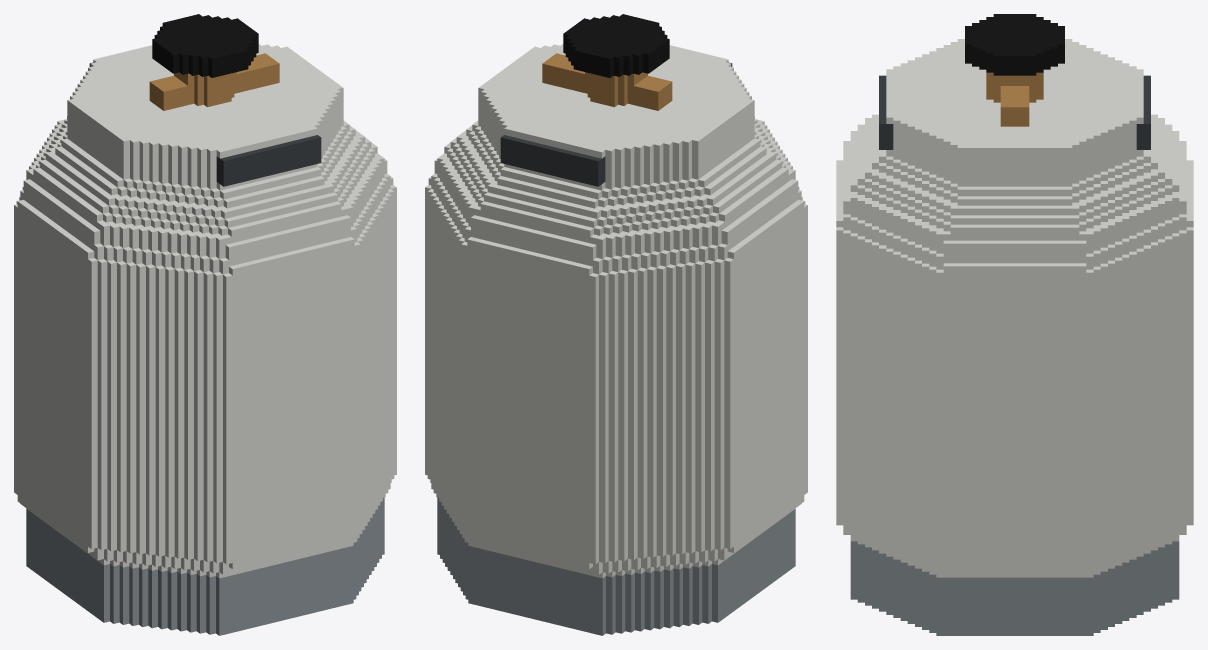
The model's file is medium_propane_tank.glb.
3 renders of one model, left to right at view 1: azimuth 30°, elevation 25°; view 2: azimuth 150°, elevation 25°; view 3: azimuth 270°, elevation 25°, orthographic.
Visible parts, largest first — view 1: medium_propane_tank:compound; view 2: medium_propane_tank:compound; view 3: medium_propane_tank:compound.
Boxes of the visible parts, x1,y1,x2,y2 form: medium_propane_tank:compound: [14, 14, 396, 635]; medium_propane_tank:compound: [425, 14, 807, 635]; medium_propane_tank:compound: [836, 14, 1193, 635].
Bounding box in the file's own units: 0.3 × 0.492 × 0.3.
